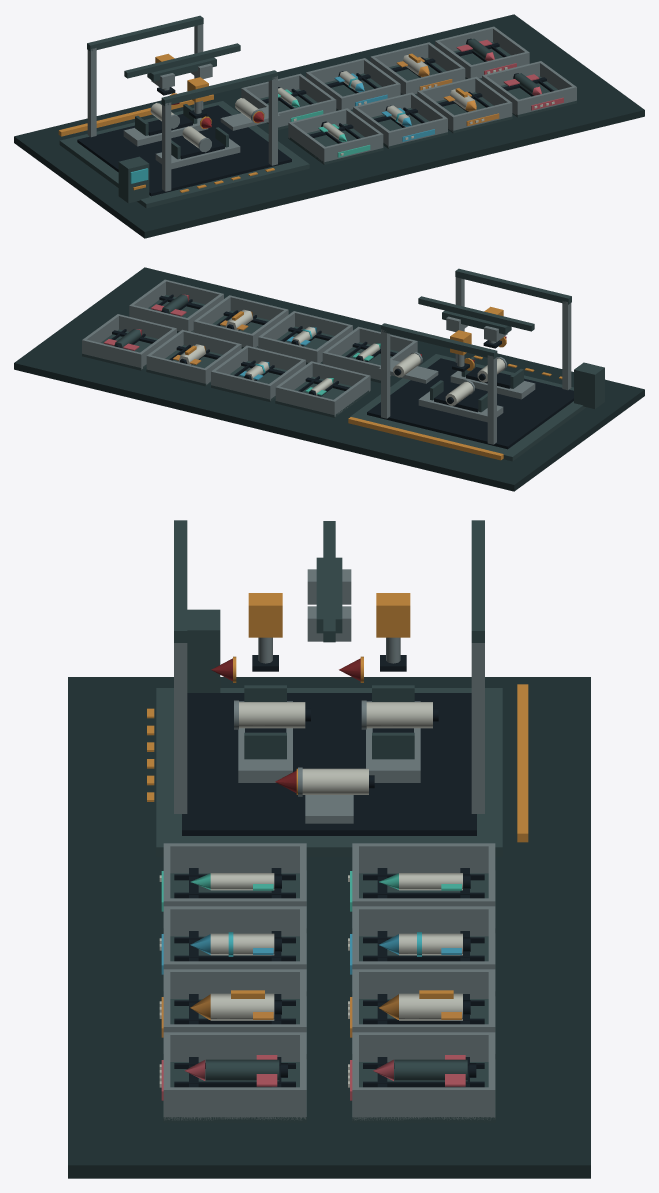
File: missile_factory_d0_lod2.meshopt.glb
3 renders of one model, top to bottom at view 1: azimuth 30°, elevation 25°; view 2: azimuth 150°, elevation 25°; view 3: azimuth 270°, elevation 25°, orthographic. The views are drawn at different scales.
Visible parts, largest first — view 1: MISSILE_FACTORY_DISTANCE_GEOMETRY; view 2: MISSILE_FACTORY_DISTANCE_GEOMETRY; view 3: MISSILE_FACTORY_DISTANCE_GEOMETRY.
Part boxes in pixels (left/top/right/bottom): MISSILE_FACTORY_DISTANCE_GEOMETRY: left=14, top=14, right=644, bottom=238; MISSILE_FACTORY_DISTANCE_GEOMETRY: left=14, top=267, right=644, bottom=491; MISSILE_FACTORY_DISTANCE_GEOMETRY: left=68, top=520, right=590, bottom=1178.
Bounding box in the file's own units: 19 × 3.91 × 8.6.
